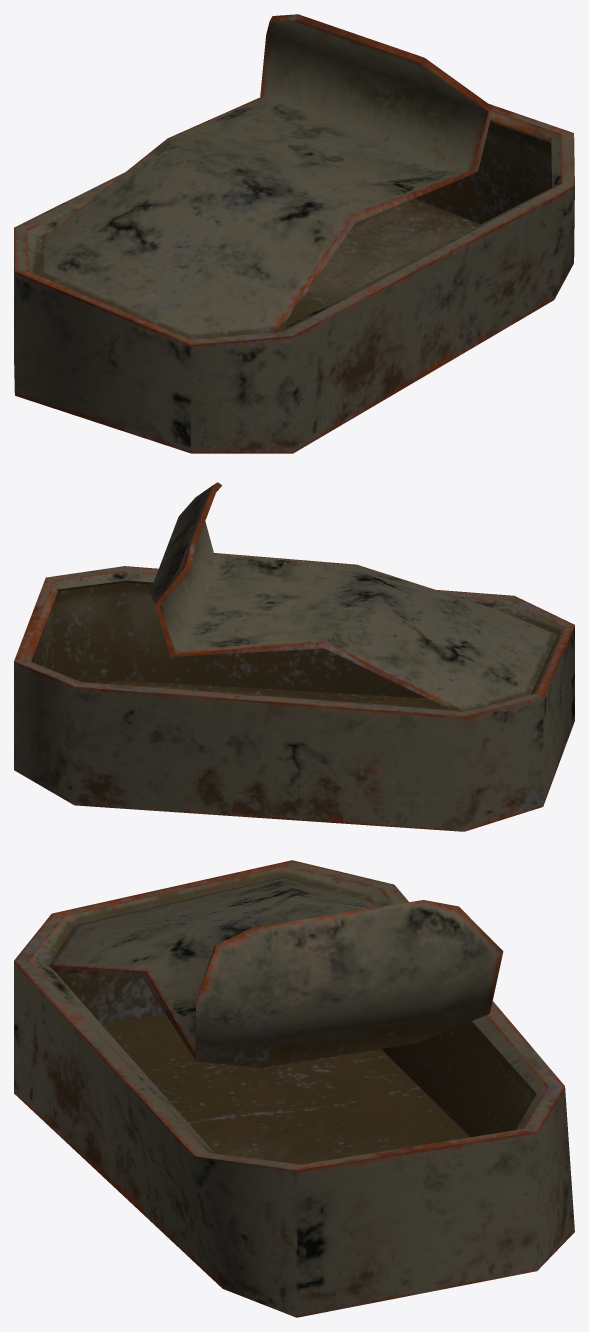
File: TunaCan.fbx
3 renders of one model, top to bottom at view 1: azimuth 30°, elevation 25°; view 2: azimuth 150°, elevation 25°; view 3: azimuth 270°, elevation 25°, orthographic. The views are drawn at different scales.
Visible parts, largest first — view 1: Can_02_GEO; view 2: Can_02_GEO; view 3: Can_02_GEO.
Part boxes in pixels (x1,y1,x2,y2): Can_02_GEO: (14,14,574,453); Can_02_GEO: (14,482,574,831); Can_02_GEO: (14,860,574,1317).
Size of the model in its own units: 11.36 by 5.06 by 8.68.
1 material, 1 textured.
